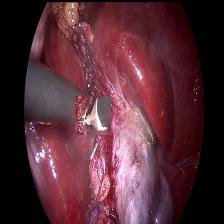Hook: (74, 95, 110, 134)
